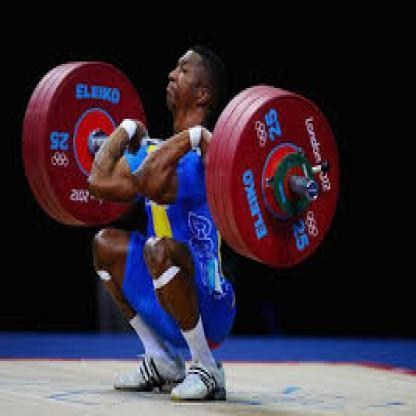barbell: (18, 60, 341, 270)
